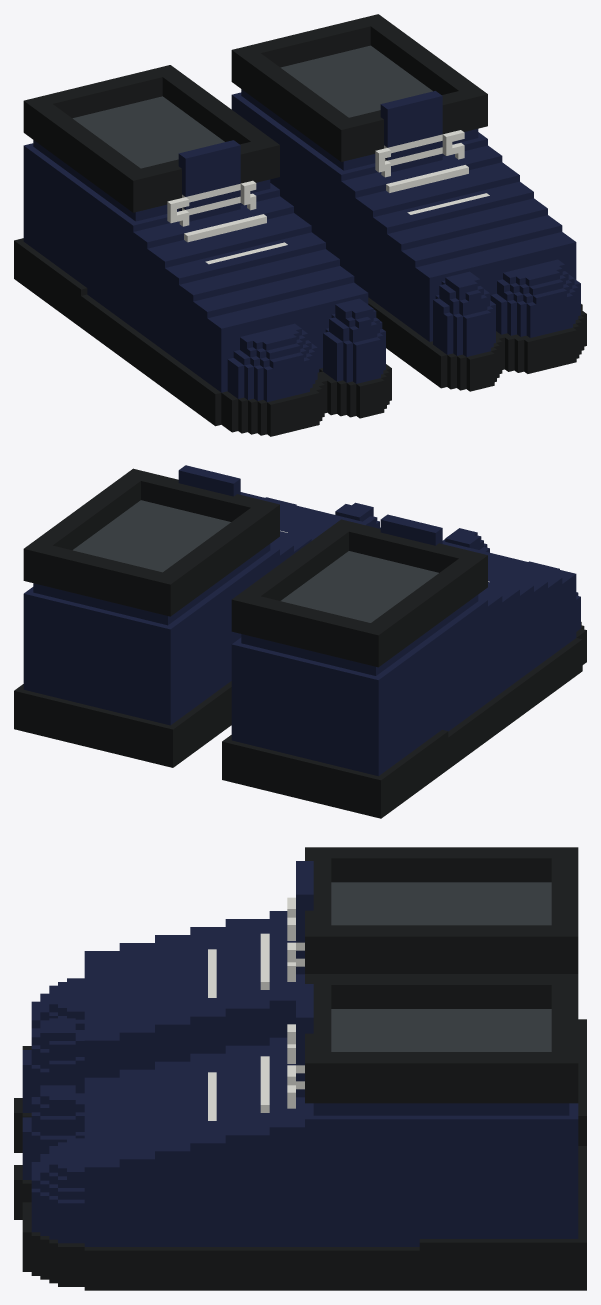
The model's file is jikatabi_sneakers.glb.
3 views of the same model, one above another, from view 1: azimuth 30°, elevation 25°; view 2: azimuth 150°, elevation 25°; view 3: azimuth 270°, elevation 25° (orthographic). The views are drawn at different scales.
Parts seen in each view (by area): view 1: jikatabi_sneakers:compound; view 2: jikatabi_sneakers:compound; view 3: jikatabi_sneakers:compound.
Part boxes in pixels (x1,y1,x2,y2): jikatabi_sneakers:compound: (14, 14, 586, 436); jikatabi_sneakers:compound: (14, 465, 586, 818); jikatabi_sneakers:compound: (14, 847, 586, 1290).
Size of the model in its own units: 0.24 by 0.12 by 0.26.
